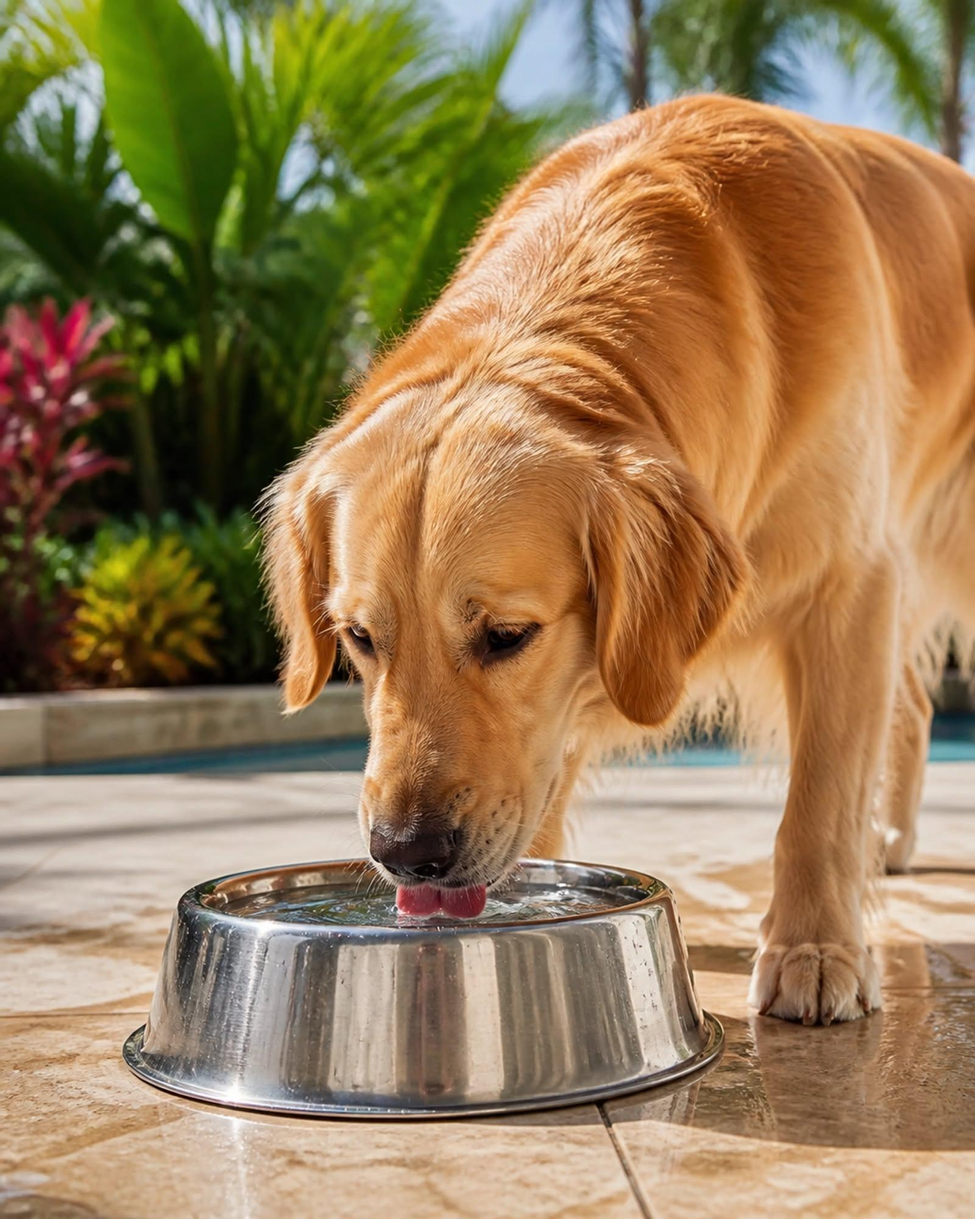adult_dog: (256, 91, 975, 1028)
non-dog: (121, 856, 729, 1121)
